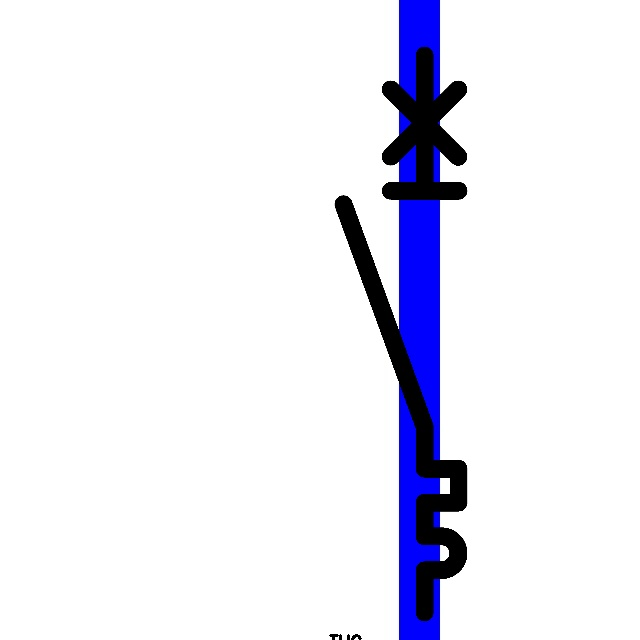interruptor_termomagnetico: (329, 41, 473, 627)
